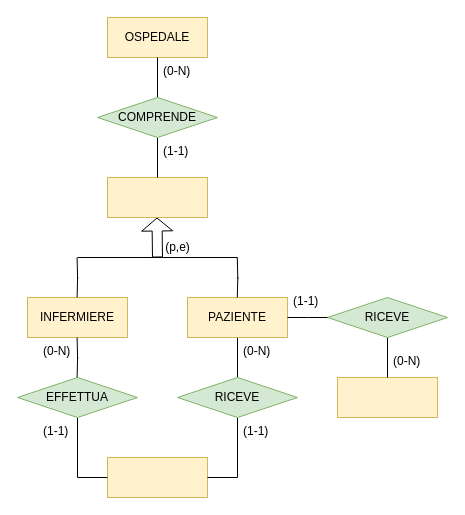
Image size: 465x515. Some labels were removed from this diagram. Each missing label, with the centre of its shape:
PERSONA: (x=157, y=197)
VACCINAZIONE: (x=157, y=477)
VACCINO: (x=387, y=397)
